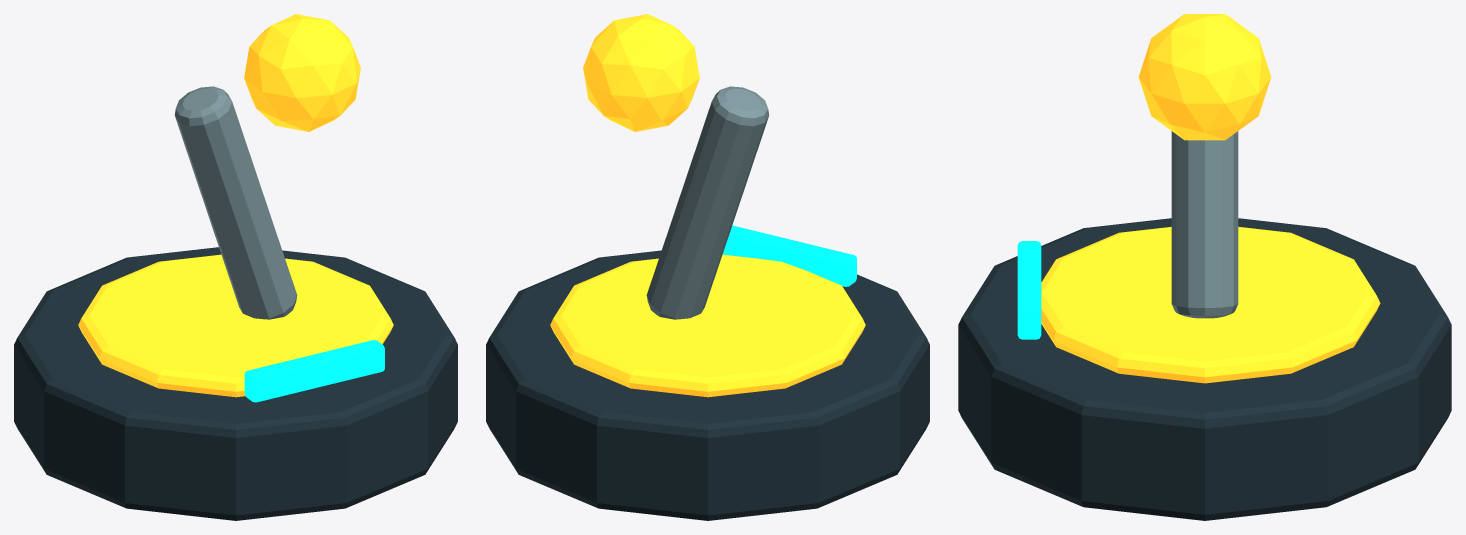
File: Switch.glb
3 views of the same model, side by side, from view 1: azimuth 30°, elevation 25°; view 2: azimuth 150°, elevation 25°; view 3: azimuth 270°, elevation 25° (orthographic). The views are drawn at different scales.
Parts seen in each view (by area): view 1: Switch_Base, Switch_Ring, Switch_Stem, Switch_Handle, Switch_Status; view 2: Switch_Base, Switch_Ring, Switch_Stem, Switch_Handle, Switch_Status; view 3: Switch_Base, Switch_Ring, Switch_Handle, Switch_Stem, Switch_Status.
Boxes of the visible parts, left/top/right/bottom form: Switch_Base: left=14, top=247, right=457, bottom=520; Switch_Ring: left=78, top=254, right=393, bottom=397; Switch_Stem: left=174, top=86, right=297, bottom=319; Switch_Handle: left=244, top=14, right=360, bottom=131; Switch_Status: left=244, top=340, right=384, bottom=402; Switch_Base: left=486, top=250, right=929, bottom=520; Switch_Ring: left=550, top=254, right=865, bottom=397; Switch_Stem: left=646, top=86, right=769, bottom=319; Switch_Handle: left=583, top=14, right=699, bottom=131; Switch_Status: left=722, top=225, right=856, bottom=286; Switch_Base: left=958, top=218, right=1451, bottom=520; Switch_Ring: left=1041, top=226, right=1380, bottom=383; Switch_Handle: left=1138, top=14, right=1271, bottom=140; Switch_Stem: left=1171, top=131, right=1238, bottom=318; Switch_Status: left=1017, top=241, right=1041, bottom=339.
Bounding box in the file's own units: 1.04 × 1.03 × 1.04.
